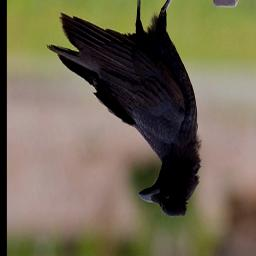Crow: (46, 0, 203, 218)
